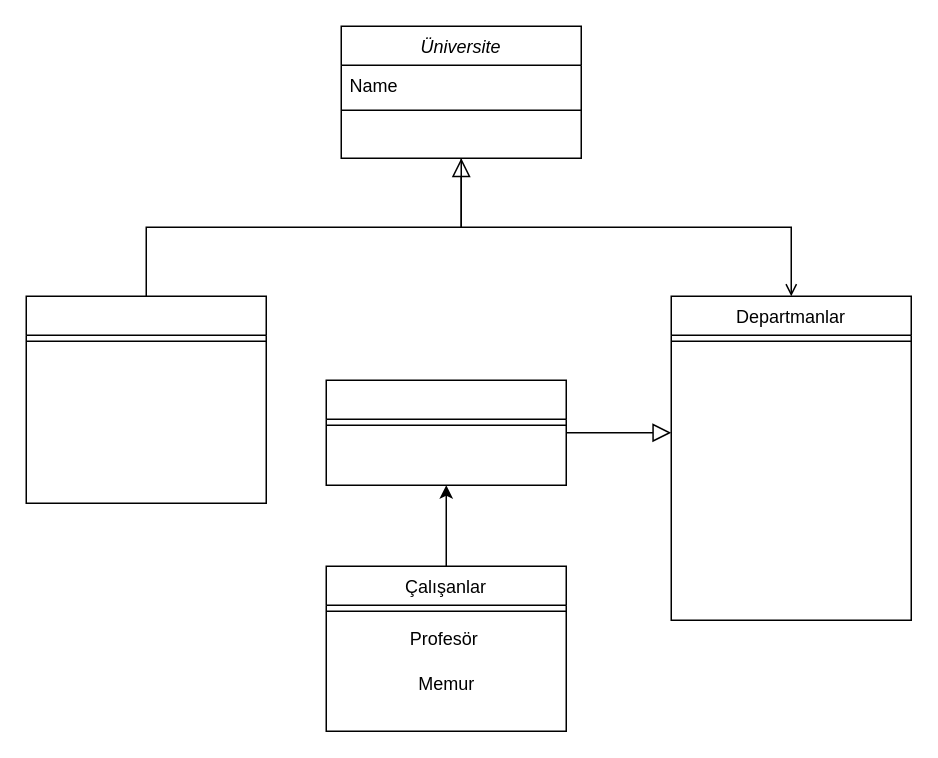
This 938x758 diagram has some shape labels left out. Here are the shapes that lost their labels. From the top down, the centre of each, then its label:
(145,399): Sınıflıklar
(445,432): Çalışma Ofisleri
